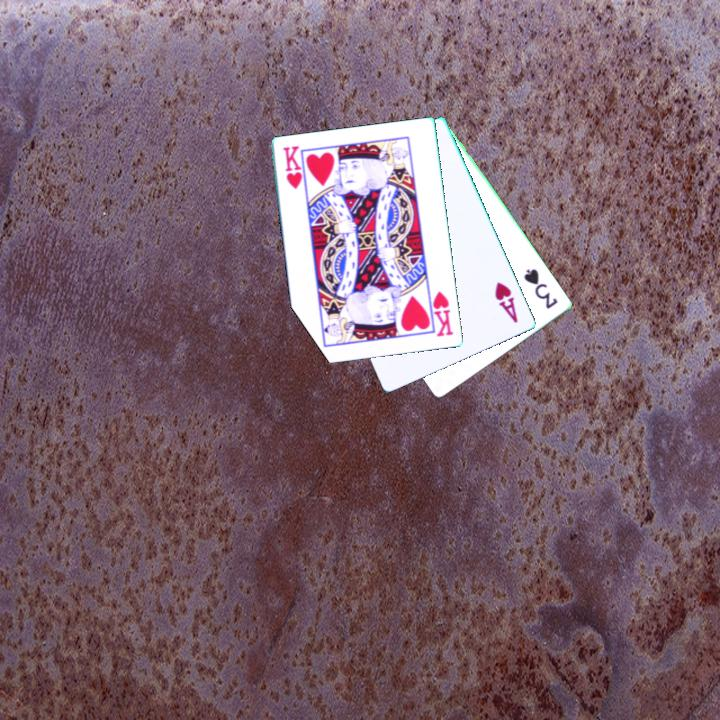3s: (520, 265, 561, 312)
Ah: (491, 278, 521, 326)
Kh: (426, 287, 456, 340), (280, 142, 305, 192)
